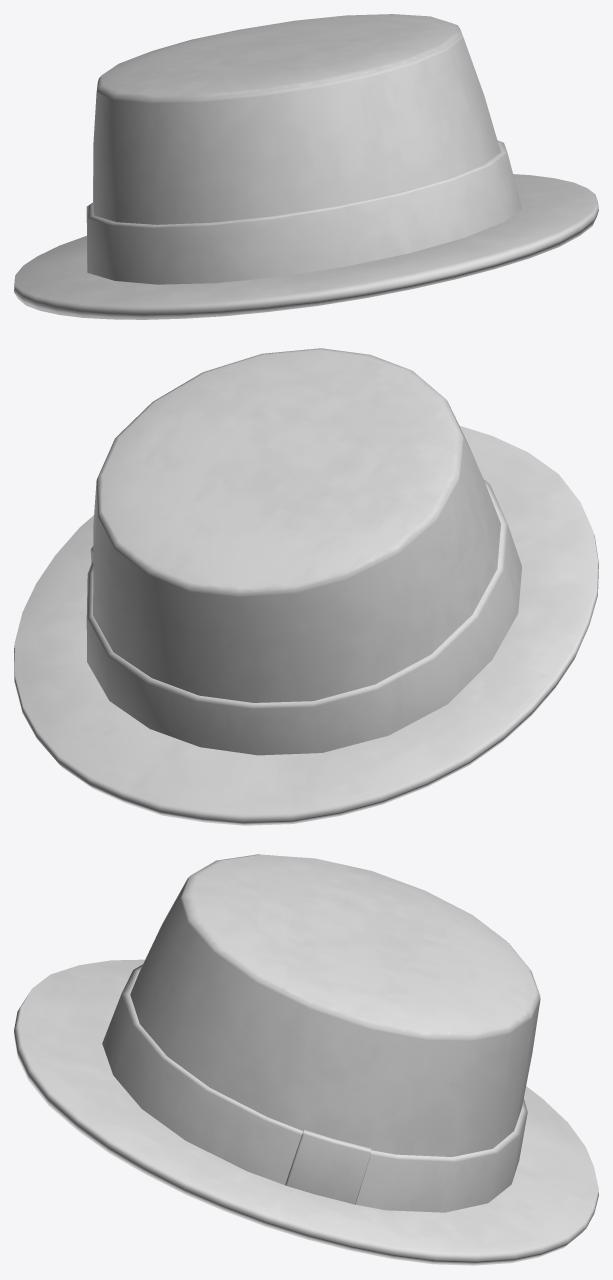
The model's file is p0_hdw1008_00_hdw00.gltf.
3 renders of one model, top to bottom at view 1: azimuth 30°, elevation 25°; view 2: azimuth 150°, elevation 25°; view 3: azimuth 270°, elevation 25°, orthographic.
Parts seen in each view (by area): view 1: hdw00_cap_mesh_shape:cap; view 2: hdw00_cap_mesh_shape:cap; view 3: hdw00_cap_mesh_shape:cap.
Boxes of the visible parts, bbox=[...] form: hdw00_cap_mesh_shape:cap: bbox=[14, 14, 598, 319]; hdw00_cap_mesh_shape:cap: bbox=[14, 348, 598, 825]; hdw00_cap_mesh_shape:cap: bbox=[14, 854, 598, 1265].
Size of what is drawn, in the model's own units: 0.4108 by 0.2424 by 0.42.
Materials: 1 (1 with a texture image).
